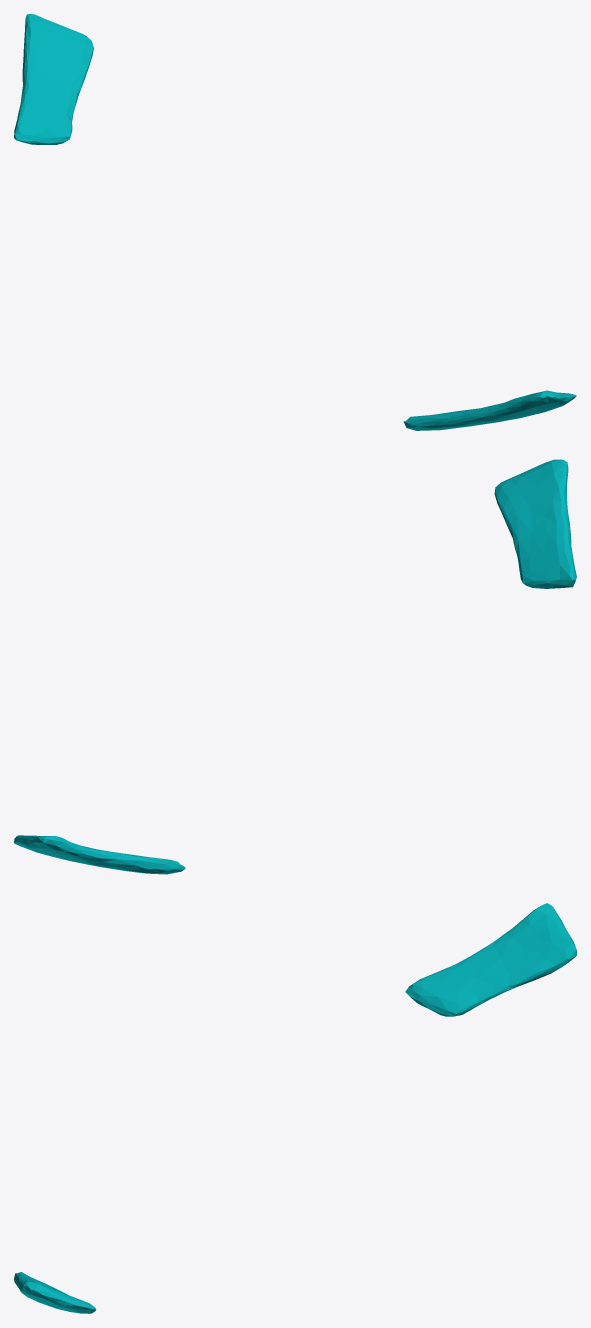
3 renders of one model, top to bottom at view 1: azimuth 30°, elevation 25°; view 2: azimuth 150°, elevation 25°; view 3: azimuth 330°, elevation 25°, orthographic.
Visible parts, largest first — view 1: 312782612.obj; view 2: 312782612.obj; view 3: 312782612.obj.
Boxes of the visible parts, box(x1,y1,x2,y2) form: 312782612.obj: box(14, 14, 576, 430); 312782612.obj: box(14, 459, 576, 874); 312782612.obj: box(14, 903, 576, 1313).
Bounding box in the file's own units: 1005 × 550 × 7162.
